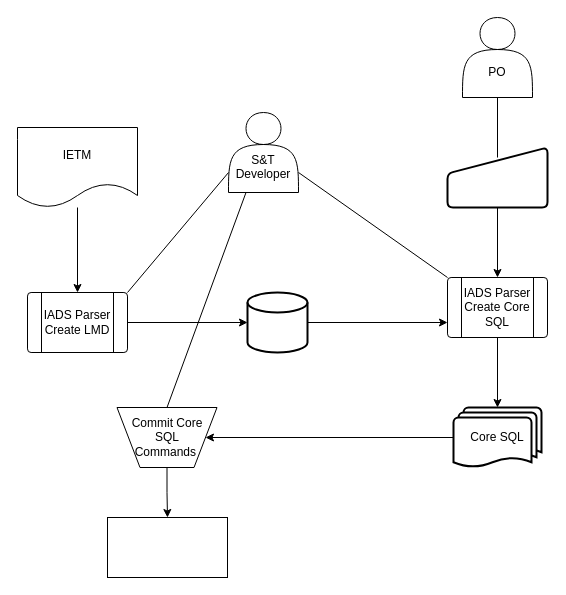
The diagram is 566 pixels wide and 595 high, and some of its shapes have lost their labels. The shapes that lost their labels are listed below. From the top down, each one's centre as x and y in pixels, then its label:
the point at 497,177: WPs to Import
the point at 277,322: LMD
the point at 167,547: GitLab
